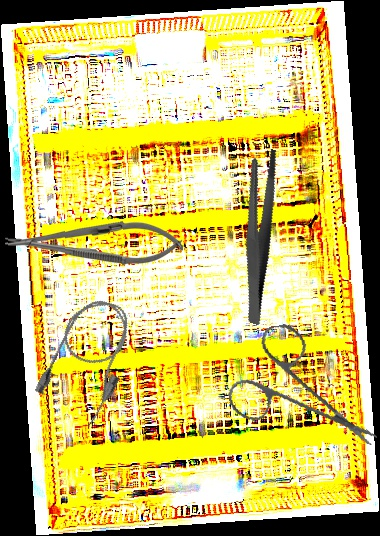Cannula: (30, 288, 148, 430)
Dressing Forceps: (201, 144, 316, 326)
Iris Scissors: (216, 310, 379, 472)
Needle Holder: (4, 218, 184, 266)
